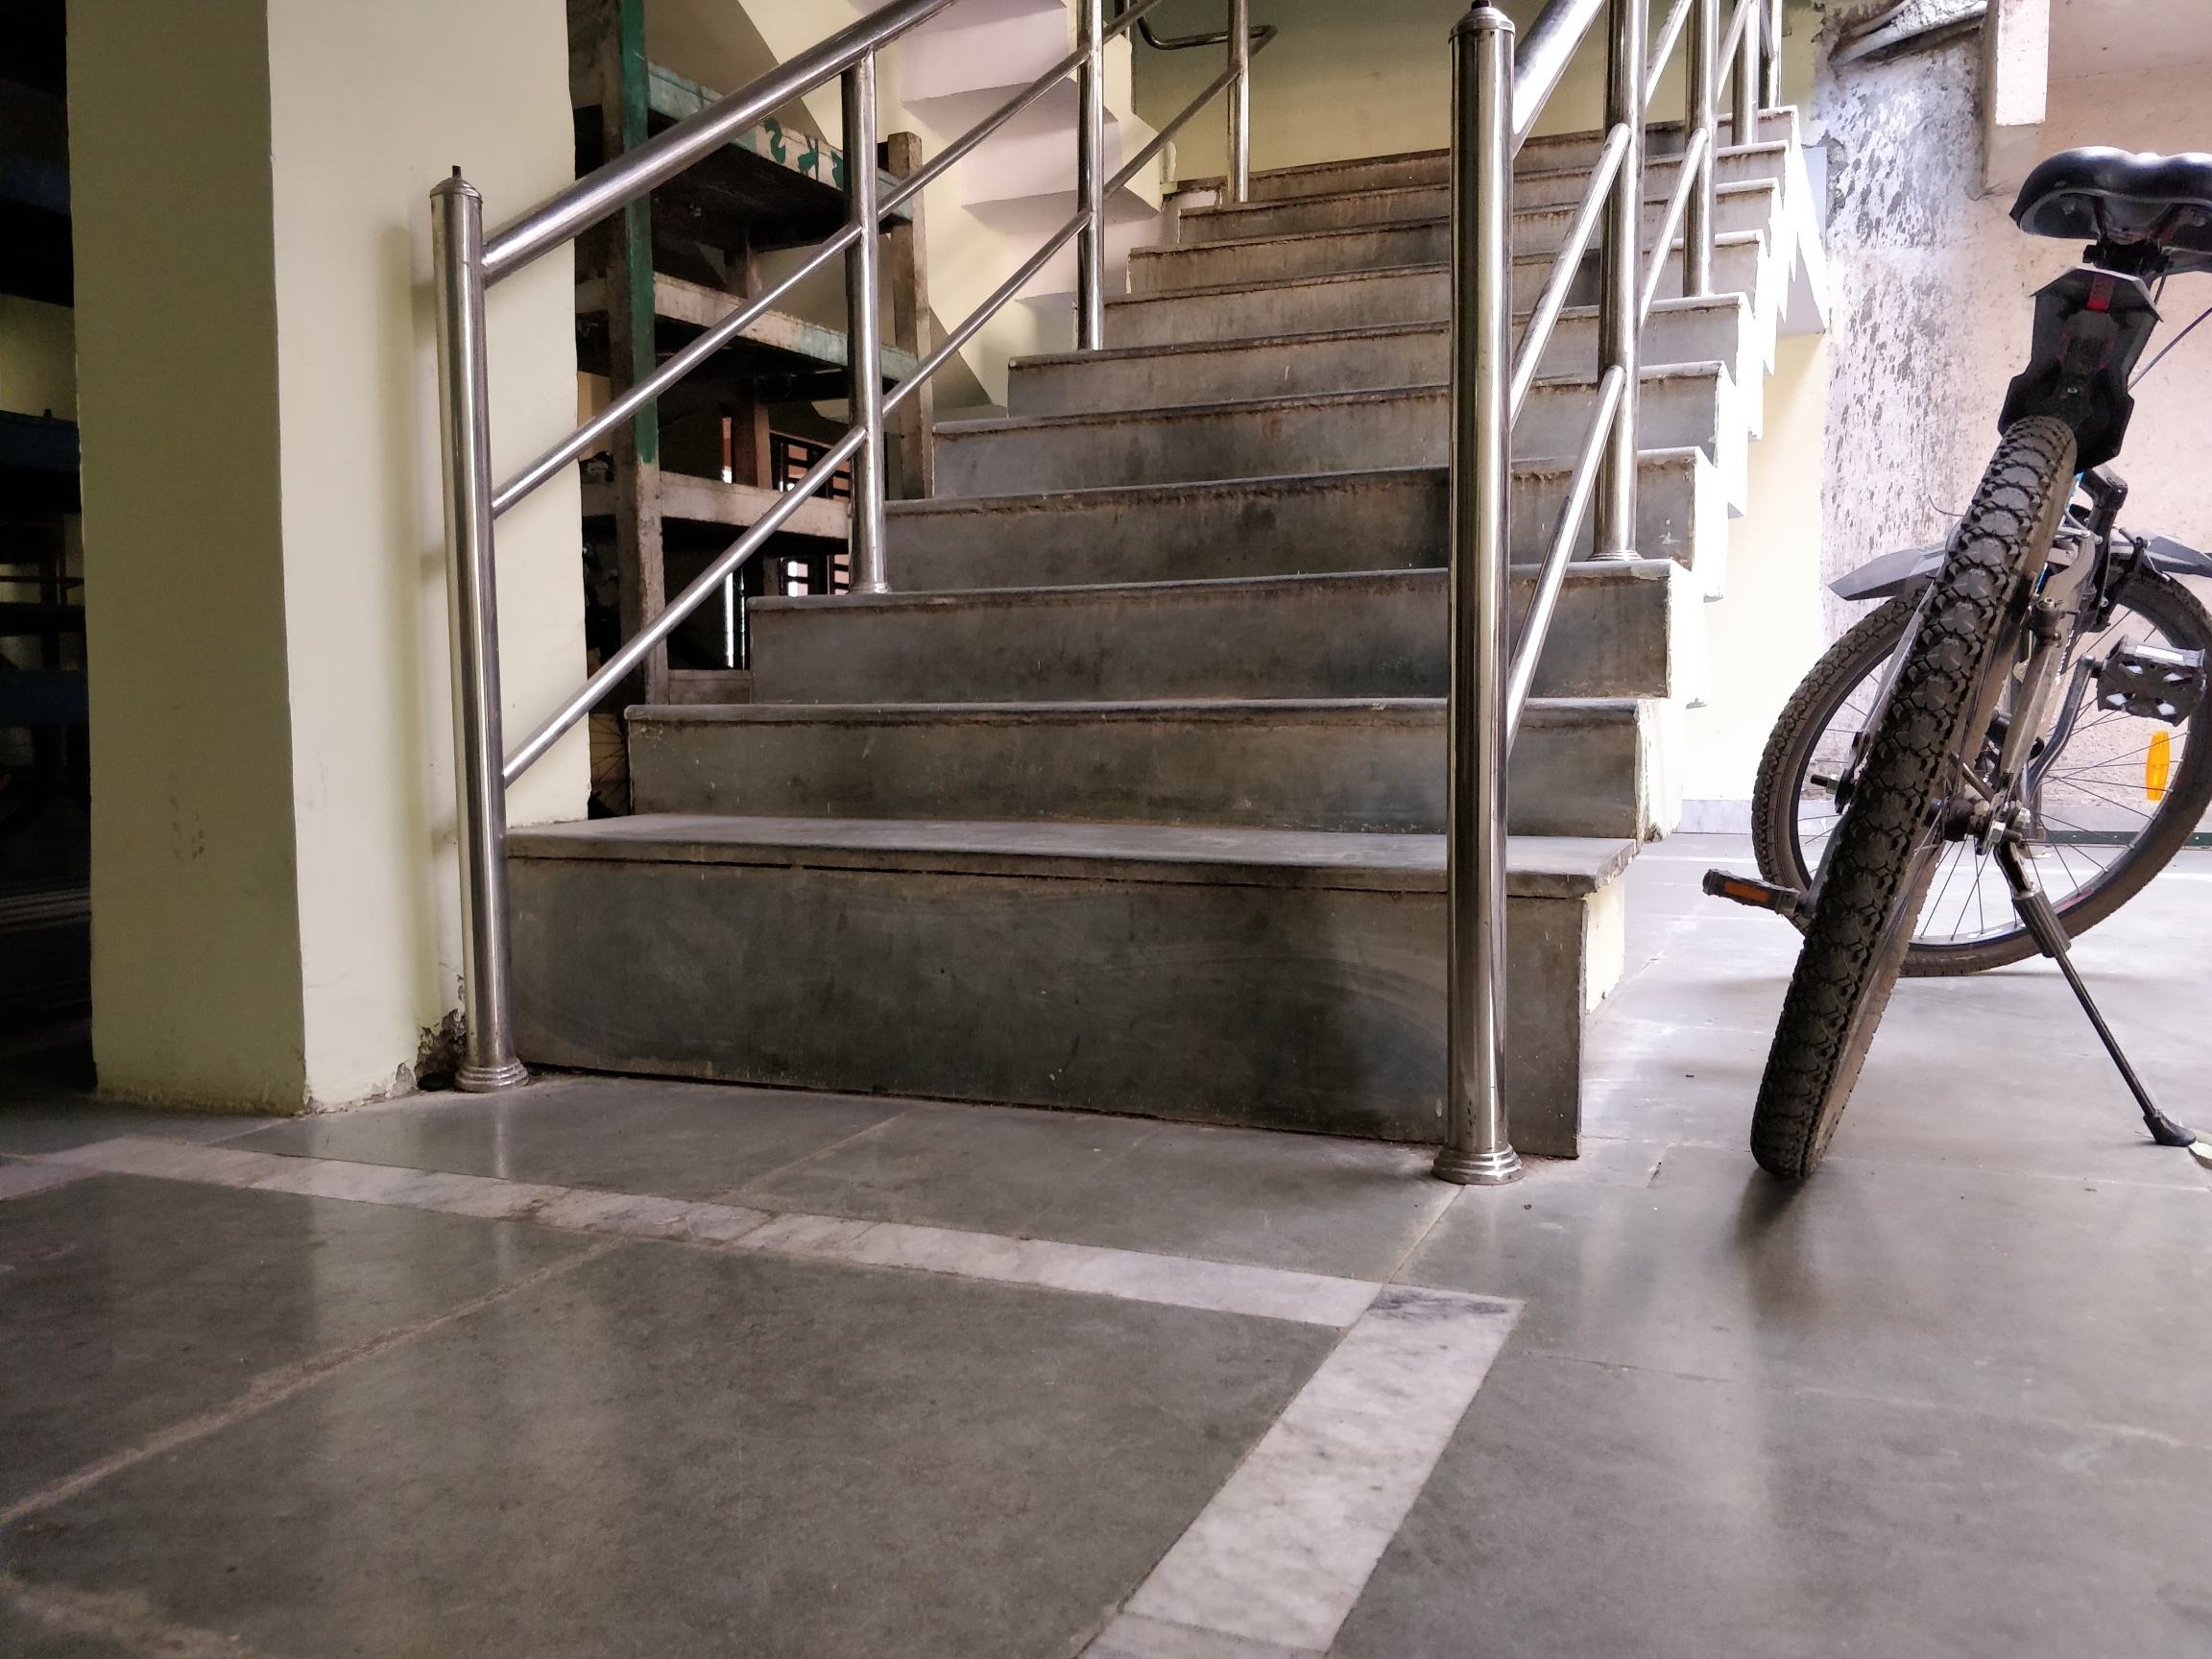stairs_up: (517, 125, 1768, 1100)
